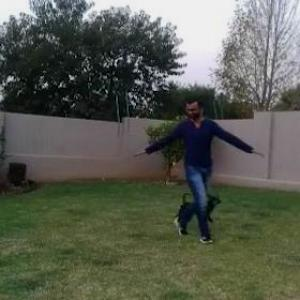land: (130, 96, 242, 230)
